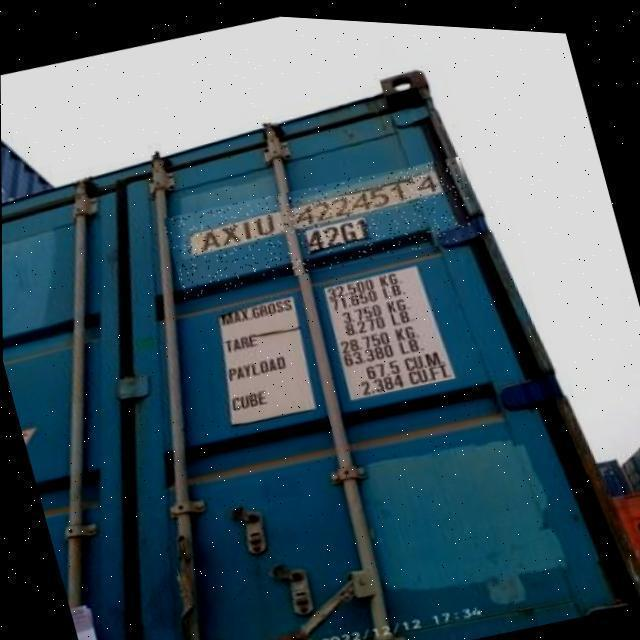ISO: (296, 216, 374, 258)
container_number: (200, 170, 434, 252)
